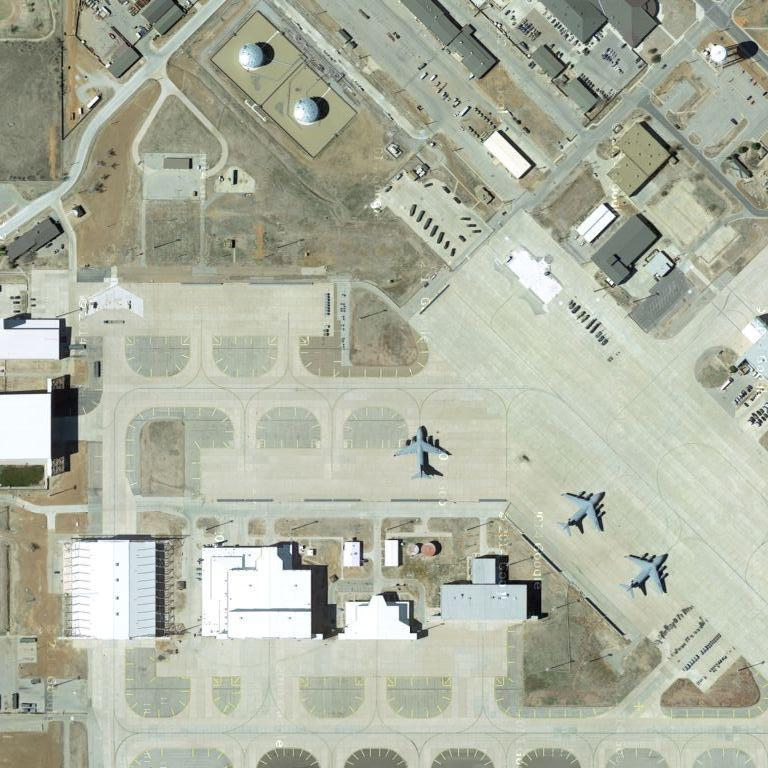C-17: (392, 421, 453, 485), (555, 487, 610, 543), (621, 548, 670, 603)
